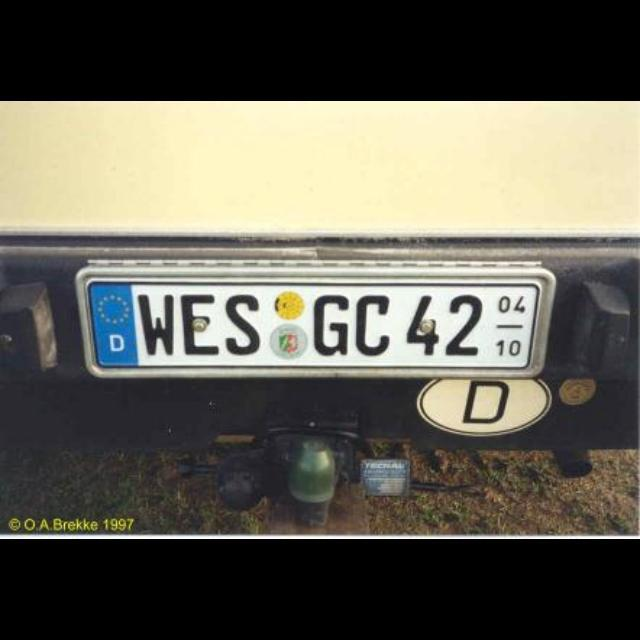license-plates: (75, 261, 557, 378)
